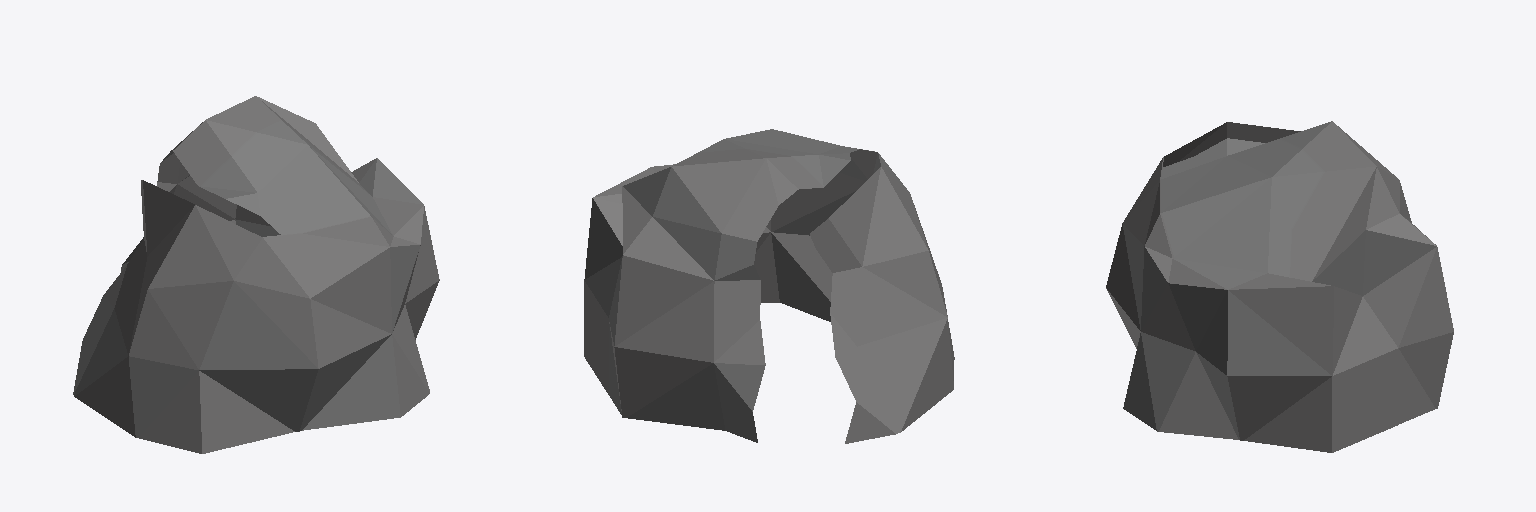
3 views of the same model, side by side, from view 1: azimuth 30°, elevation 25°; view 2: azimuth 150°, elevation 25°; view 3: azimuth 270°, elevation 25° (orthographic).
Visible parts, largest first — view 1: pCube1; view 2: pCube1; view 3: pCube1.
Boxes of the visible parts, x1,y1,x2,y2 form: pCube1: [73, 96, 439, 453]; pCube1: [584, 129, 954, 443]; pCube1: [1106, 121, 1453, 452].
Bounding box in the file's own units: 1.89 × 1.41 × 1.81.
Materials: 1 (1 with a texture image).